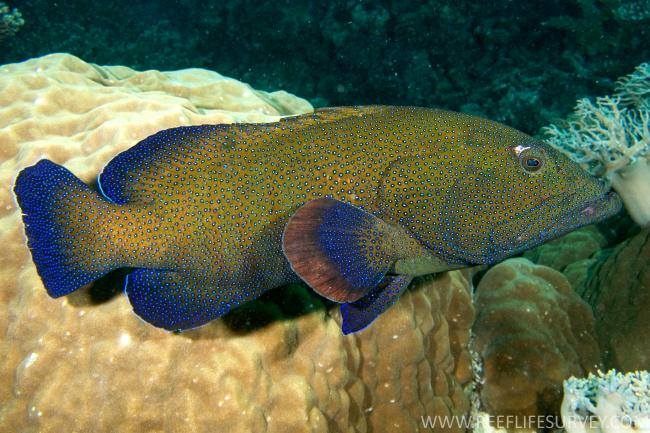fish: (14, 106, 610, 336)
